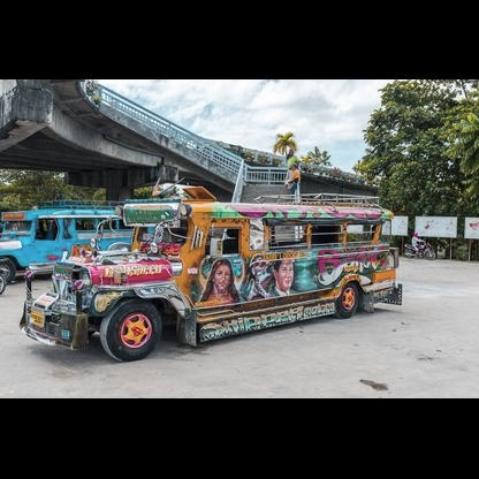jeepney: (21, 192, 405, 367)
